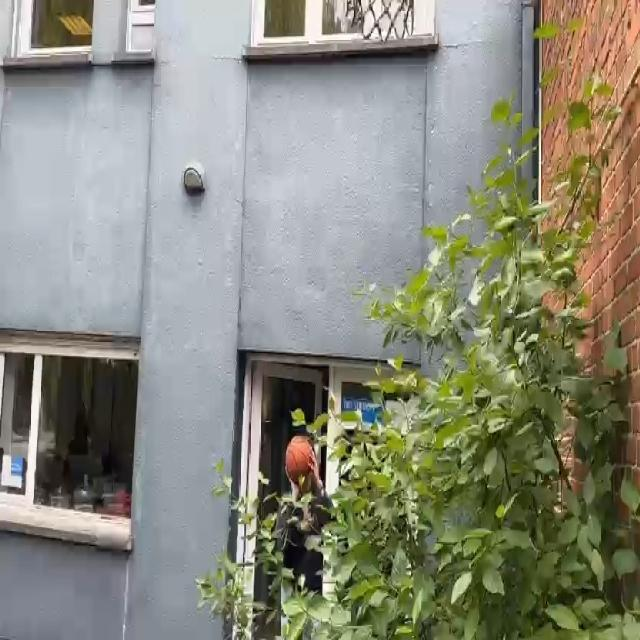Basketball: (285, 437, 313, 481)
